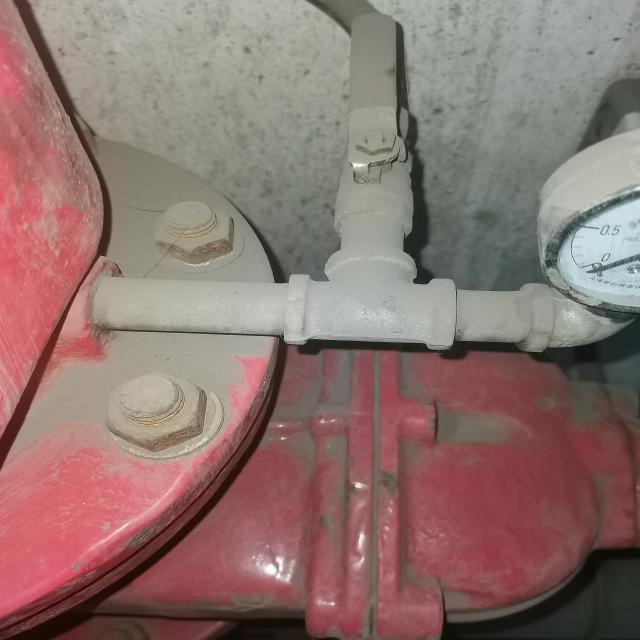bolt nut: (103, 368, 210, 454), (149, 200, 240, 266)
